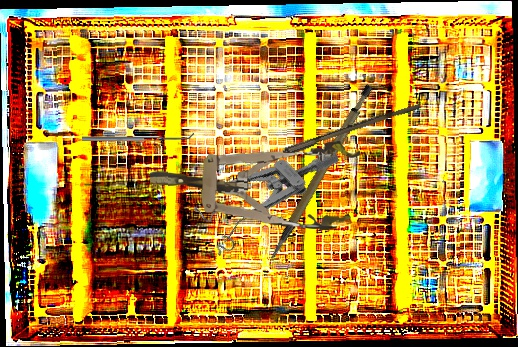Scalpel Handle: (242, 81, 396, 263)
Spatula Surgical: (82, 132, 194, 141)
Speculum: (182, 111, 342, 267), (147, 131, 361, 232)
Surgical Spoon: (236, 99, 421, 174)
